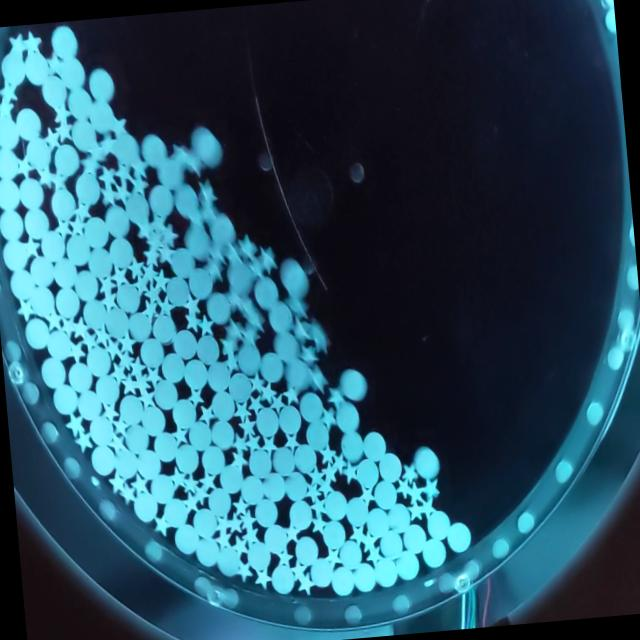disco blanco: (192, 124, 224, 164), (101, 200, 132, 240), (21, 49, 51, 88), (338, 366, 370, 401), (412, 442, 442, 478), (173, 180, 200, 220), (69, 116, 99, 152), (279, 257, 308, 294), (1, 236, 29, 274), (266, 297, 294, 335), (162, 273, 192, 308), (114, 280, 144, 314), (49, 186, 77, 222), (80, 295, 108, 331), (51, 22, 78, 59), (84, 246, 115, 278), (88, 66, 114, 104), (22, 206, 50, 241), (26, 252, 56, 284), (134, 448, 164, 480), (172, 442, 201, 475), (53, 285, 81, 319), (146, 182, 174, 216), (40, 74, 68, 108), (88, 99, 116, 133), (204, 358, 232, 392), (75, 170, 102, 205), (141, 132, 167, 168), (14, 104, 40, 140), (173, 520, 199, 556), (82, 215, 110, 248), (226, 370, 253, 404), (59, 56, 86, 90), (24, 316, 49, 352), (53, 380, 78, 416), (107, 235, 135, 267), (338, 430, 366, 462), (66, 360, 94, 392), (200, 443, 227, 476), (446, 518, 472, 552), (39, 355, 65, 389), (90, 442, 116, 476), (372, 476, 398, 510), (298, 388, 324, 422), (25, 136, 51, 170), (424, 506, 450, 540), (168, 247, 196, 278), (156, 158, 184, 189), (206, 484, 233, 516), (205, 291, 232, 323), (51, 256, 78, 288), (194, 333, 221, 365), (66, 86, 93, 118), (344, 494, 371, 526), (354, 455, 380, 488), (182, 357, 207, 391), (294, 532, 319, 566), (132, 488, 157, 522), (140, 334, 165, 368), (65, 234, 93, 264), (0, 143, 22, 181), (172, 328, 198, 360), (118, 393, 144, 425), (252, 276, 278, 308), (304, 418, 330, 450), (8, 268, 34, 300), (150, 472, 176, 504), (394, 550, 420, 582), (402, 522, 428, 554), (210, 390, 235, 423), (184, 223, 209, 256), (377, 448, 402, 481), (362, 427, 386, 461), (240, 473, 266, 504), (274, 330, 300, 361), (422, 536, 446, 569), (284, 468, 308, 501), (194, 535, 218, 568), (386, 501, 410, 534), (2, 50, 25, 84), (287, 499, 313, 529), (214, 548, 240, 578), (188, 267, 213, 298), (54, 142, 78, 174), (262, 522, 286, 554), (285, 356, 309, 388), (336, 401, 360, 433), (366, 506, 390, 538), (310, 556, 334, 588), (210, 215, 236, 244), (154, 431, 178, 462), (262, 471, 286, 502), (0, 175, 21, 210), (0, 114, 21, 149), (153, 379, 179, 407), (378, 531, 404, 559), (260, 352, 284, 382), (330, 566, 354, 596), (338, 538, 362, 568), (374, 557, 398, 587), (278, 404, 302, 433), (254, 498, 278, 527), (352, 561, 374, 592), (131, 308, 150, 343), (272, 446, 294, 475), (324, 490, 346, 518)
estrella blanca: (308, 318, 332, 356), (288, 313, 313, 344), (197, 178, 220, 210), (34, 160, 58, 190), (234, 233, 258, 261), (257, 243, 278, 274), (202, 255, 226, 282), (63, 410, 86, 438), (158, 222, 181, 250), (78, 150, 102, 176), (127, 170, 150, 196), (150, 512, 173, 538), (96, 162, 118, 189), (71, 196, 93, 223), (294, 569, 316, 596), (51, 98, 73, 125), (117, 328, 139, 354), (216, 331, 238, 357), (14, 294, 36, 320), (106, 468, 127, 495), (14, 150, 34, 178), (154, 240, 177, 264), (168, 422, 190, 447), (72, 429, 94, 454), (108, 360, 129, 386), (67, 338, 88, 364), (246, 307, 267, 333), (196, 402, 218, 426), (221, 350, 243, 374), (134, 386, 156, 410), (229, 447, 250, 472), (150, 266, 170, 292), (112, 162, 132, 188), (234, 558, 254, 584), (282, 520, 302, 546), (52, 119, 74, 142), (134, 217, 155, 241), (109, 414, 130, 438), (260, 432, 280, 457), (98, 131, 118, 156), (140, 243, 160, 268), (422, 476, 441, 502), (230, 532, 249, 558), (23, 233, 41, 260), (231, 399, 252, 422), (212, 514, 232, 538), (320, 461, 340, 485), (52, 216, 72, 240), (316, 441, 336, 465), (348, 522, 368, 546), (309, 512, 329, 536), (324, 544, 344, 568), (230, 494, 250, 518), (282, 382, 301, 407), (408, 480, 426, 506), (220, 241, 242, 262), (230, 431, 250, 454), (42, 126, 61, 150), (254, 565, 272, 590), (396, 476, 414, 501), (247, 370, 265, 395), (182, 489, 200, 514), (400, 459, 418, 484), (244, 431, 264, 453), (110, 116, 130, 138), (143, 364, 163, 386), (128, 354, 147, 377), (99, 399, 118, 422), (128, 255, 146, 279), (198, 468, 216, 492), (226, 288, 244, 312), (186, 386, 205, 408), (94, 324, 113, 346), (341, 462, 360, 484), (283, 430, 301, 453), (242, 325, 260, 348), (225, 318, 242, 342), (44, 308, 61, 332), (71, 315, 88, 339), (0, 95, 15, 122), (106, 432, 126, 452), (406, 498, 424, 520), (268, 391, 286, 413), (182, 471, 199, 494), (243, 297, 258, 322), (198, 314, 215, 336), (307, 464, 324, 486), (259, 381, 275, 404), (239, 510, 257, 530), (156, 296, 174, 316), (276, 548, 294, 568), (246, 395, 264, 415), (62, 314, 78, 336), (120, 375, 137, 395), (184, 294, 200, 314), (184, 310, 198, 331)
